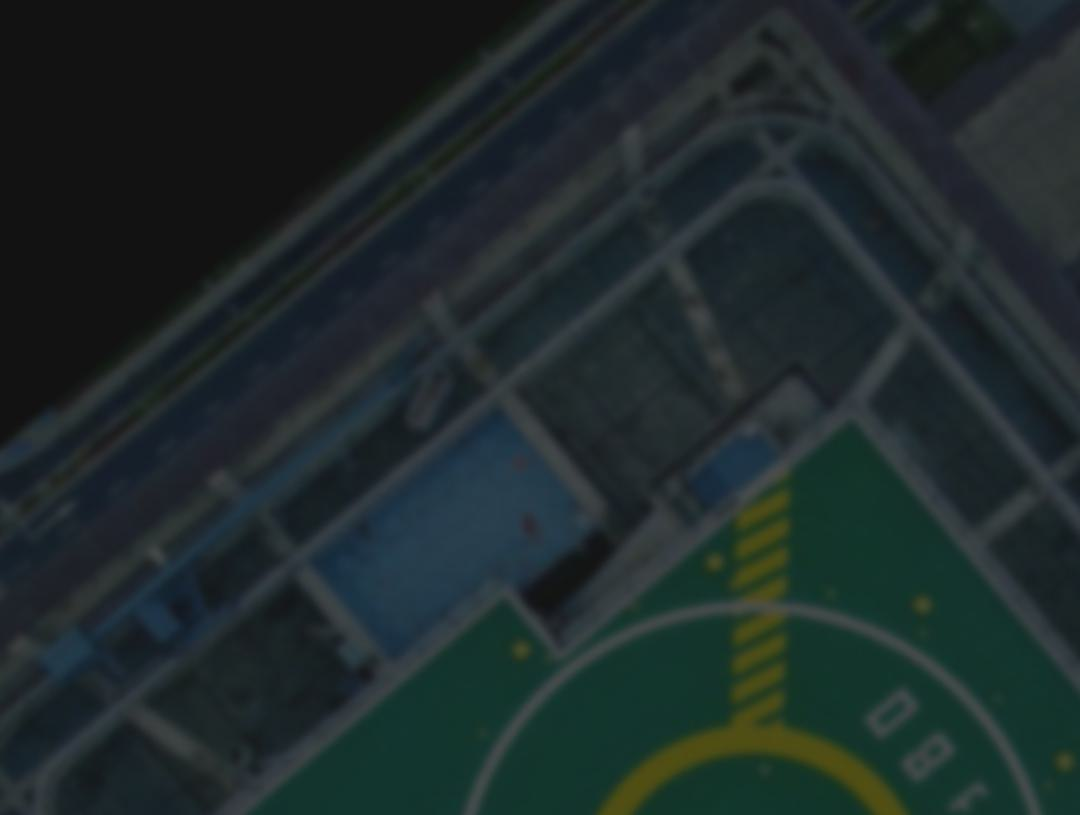Apron: (590, 701, 932, 815)
